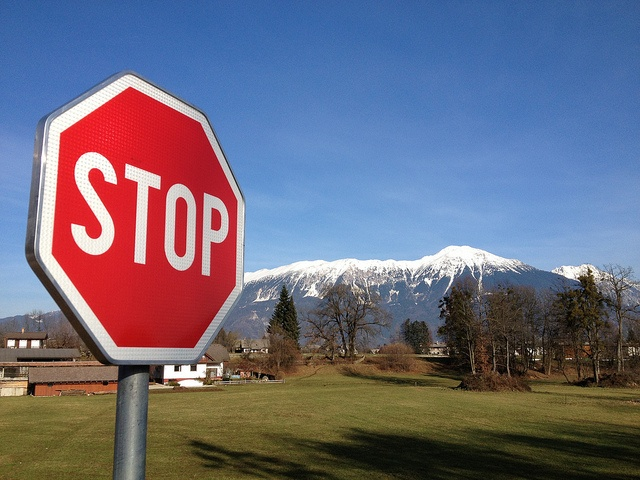stop sign: (30, 70, 277, 438)
